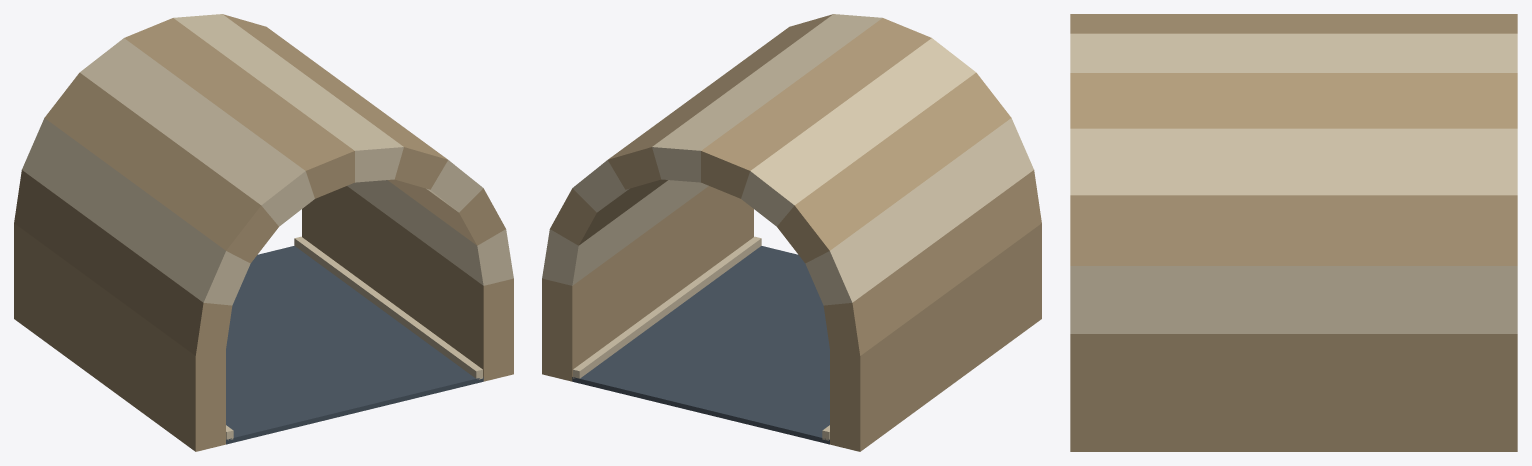
The model's file is tunnel-segment.glb.
3 views of the same model, side by side, from view 1: azimuth 30°, elevation 25°; view 2: azimuth 150°, elevation 25°; view 3: azimuth 270°, elevation 25° (orthographic). The views are drawn at different scales.
Visible parts, largest first — view 1: asset_root; view 2: asset_root; view 3: asset_root.
Part boxes in pixels (bbox=[...]): asset_root: bbox=[14, 14, 513, 451]; asset_root: bbox=[542, 14, 1041, 451]; asset_root: bbox=[1070, 14, 1517, 451].
Size of the model in its own units: 5.56 by 4.38 by 5.5.
